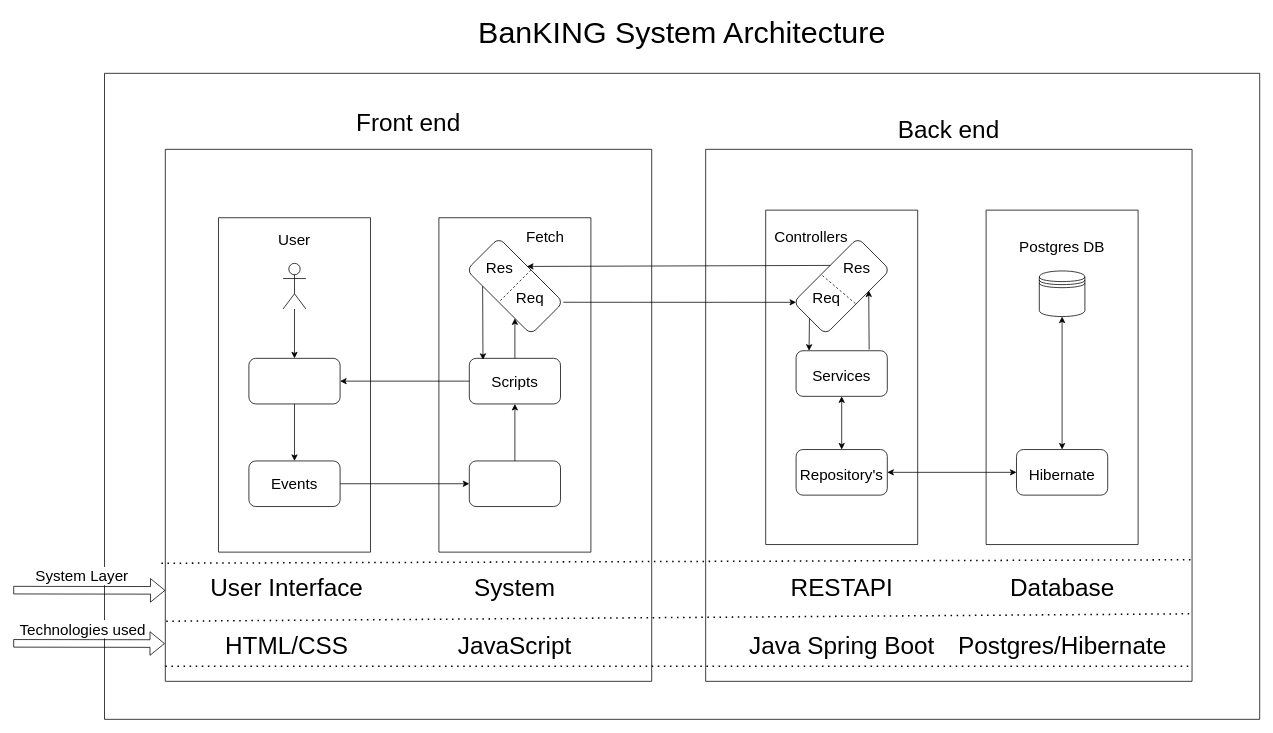
This 1273x733 diagram has some shape labels left out. Here are the shapes that lost their labels. From the top down, the centre of each, then its label:
At pixel 294 381: "DOM".
At pixel 514 483: "Event listeners".
